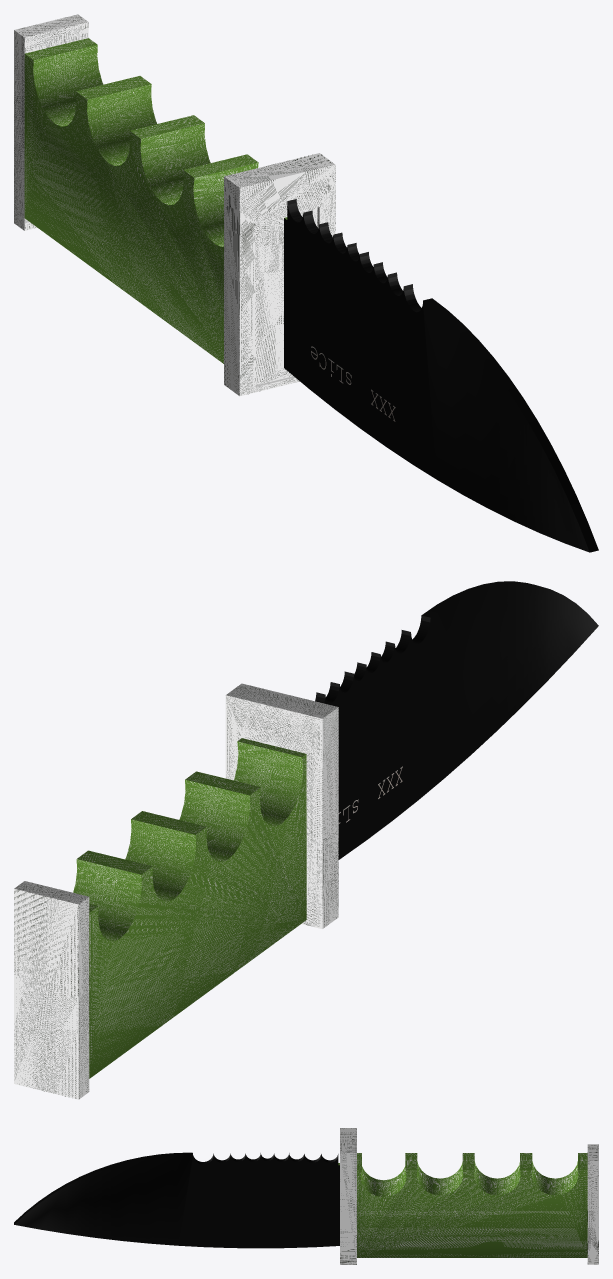
Rendered from model_scale.obj.
3 views of the same model, one above another, from view 1: azimuth 30°, elevation 25°; view 2: azimuth 150°, elevation 25°; view 3: azimuth 270°, elevation 25° (orthographic). The views are drawn at different scales.
Parts seen in each view (by area): view 1: mesh10_mesh10-geometry; view 2: mesh10_mesh10-geometry; view 3: mesh10_mesh10-geometry.
Boxes of the visible parts, box(x1,y1,x2,y2) form: mesh10_mesh10-geometry: box(14, 14, 598, 552); mesh10_mesh10-geometry: box(14, 581, 598, 1099); mesh10_mesh10-geometry: box(14, 1128, 598, 1264).
Bounding box in the file's own units: 0.0237 × 0.051 × 0.2334.
